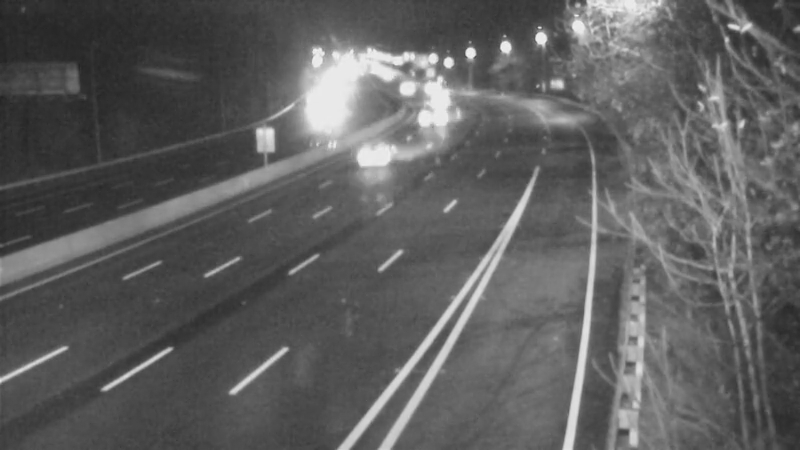vehicle: (342, 114, 422, 194), (380, 64, 430, 114), (403, 62, 453, 112), (413, 74, 463, 124), (408, 95, 458, 145), (289, 92, 339, 142)
